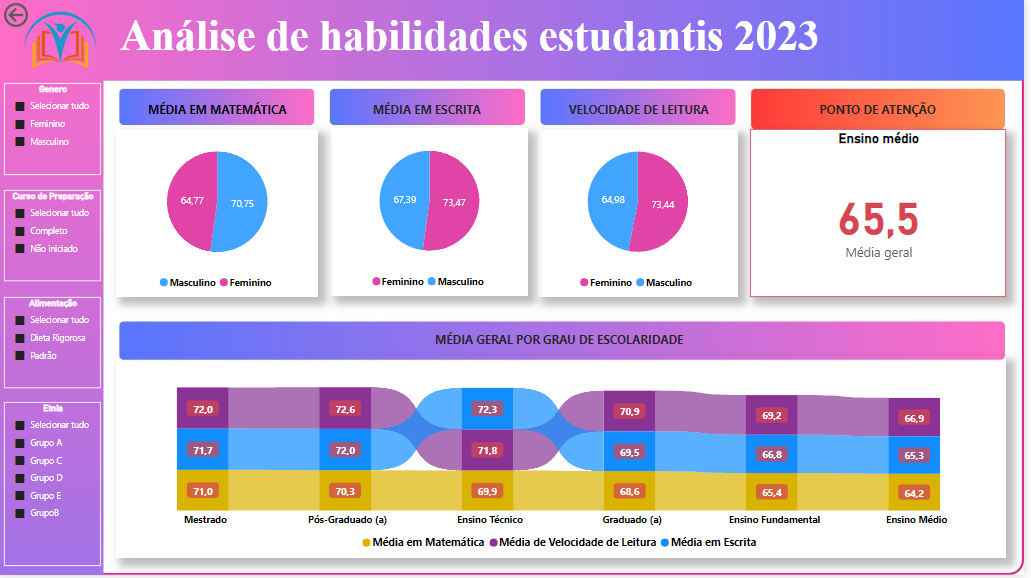

Layout of this report page (visuals, bound fields, positions):
{"tool":"powerbi","page":{"name":"Página 1","canvas":[1280,720],"ordinal":0},"visuals":[{"type":"slicer","title":"Genero","fields":{"Values":["exams.gender"]},"box":[4.7,105.4,120.6,114.8],"z":0},{"type":"slicer","title":"Alimentação","fields":{"Values":["exams.lunch"]},"box":[4.7,372.4,120.6,113.6],"z":1000},{"type":"slicer","title":"Etnia","fields":{"Values":["exams.race/ethnicity"]},"box":[4.7,503.6,120.6,204.9],"z":2000},{"type":"slicer","title":"Curso de Preparação","fields":{"Values":["exams.test preparation course"]},"box":[4.7,238.9,120.6,113.6],"z":3000},{"type":"pieChart","title":"Média em Matemática","fields":{"Y":["Avg(exams.math score)"],"Category":["exams.gender"]},"box":[145.3,162.9,253.2,209.8],"z":4000},{"type":"pieChart","title":"Média em Leitura","fields":{"Y":["Avg(exams.reading score)"],"Category":["exams.gender"]},"box":[413.8,161.8,246.2,209.8],"z":5000},{"type":"pieChart","title":"Média em Escrita","fields":{"Y":["Avg(exams.writing score)"],"Category":["exams.gender"]},"box":[672.8,162.9,249.7,209.8],"z":6000},{"type":"ribbonChart","title":"Média por Grau de Escolaridade","fields":{"Category":["exams.parental level of education"],"Y":["Avg(exams.math score)","Avg(exams.reading score)","Avg(exams.writing score)"]},"box":[145,446.2,1112.5,252.5],"z":7000},{"type":"textbox","box":[145.3,121.9,253.2,30.5],"z":8000},{"type":"textbox","box":[406.7,121.9,254.4,30.5],"z":9000},{"type":"textbox","box":[669.3,121.9,259,30.5],"z":10000},{"type":"textbox","box":[174.7,410.3,1047.9,36.3],"z":11000},{"type":"actionButton","box":[0,0,100,40],"z":12000},{"type":"textbox","box":[936.6,121.9,321.2,30.5],"z":13001},{"type":"card","title":"Ensino médio","fields":{"Values":["Avg(exams__1.Média geral)"]},"box":[937.5,162.5,320,210],"z":13002},{"type":"textbox","box":[145.3,10.5,929.5,82.1],"z":13003},{"type":"image","box":[25,0,100,105],"z":13004}]}

Visuals, with their boxes in screenshot pixels (x1, y1, x2, y2), scaled from the page's 1280x720 canvas onto the 1031x578 screenshot:
"Genero" slicer: bbox=(4, 85, 101, 177)
"Alimentação" slicer: bbox=(4, 299, 101, 390)
"Etnia" slicer: bbox=(4, 404, 101, 569)
"Curso de Preparação" slicer: bbox=(4, 192, 101, 283)
"Média em Matemática" pieChart: bbox=(117, 131, 321, 299)
"Média em Leitura" pieChart: bbox=(333, 130, 532, 298)
"Média em Escrita" pieChart: bbox=(542, 131, 743, 299)
"Média por Grau de Escolaridade" ribbonChart: bbox=(117, 358, 1013, 561)
textbox: bbox=(117, 98, 321, 122)
textbox: bbox=(328, 98, 532, 122)
textbox: bbox=(539, 98, 748, 122)
textbox: bbox=(141, 329, 985, 359)
actionButton: bbox=(0, 0, 81, 32)
textbox: bbox=(754, 98, 1013, 122)
"Ensino médio" card: bbox=(755, 130, 1013, 299)
textbox: bbox=(117, 8, 866, 74)
image: bbox=(20, 0, 101, 84)
